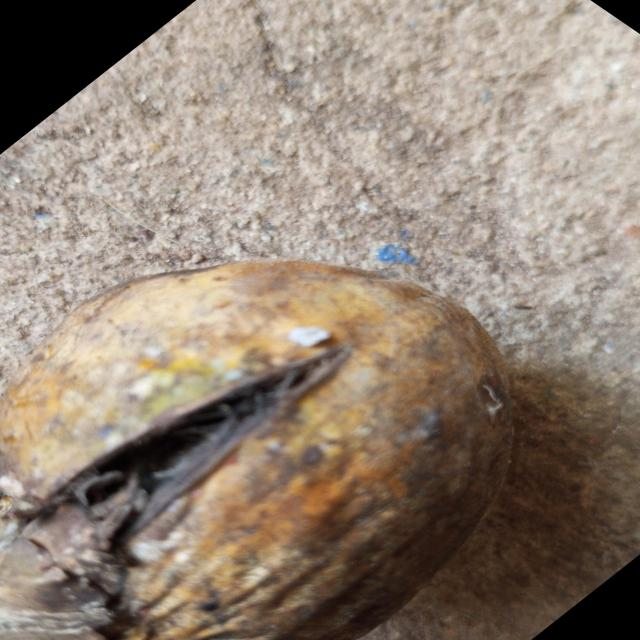damaged: (0, 261, 555, 640)
